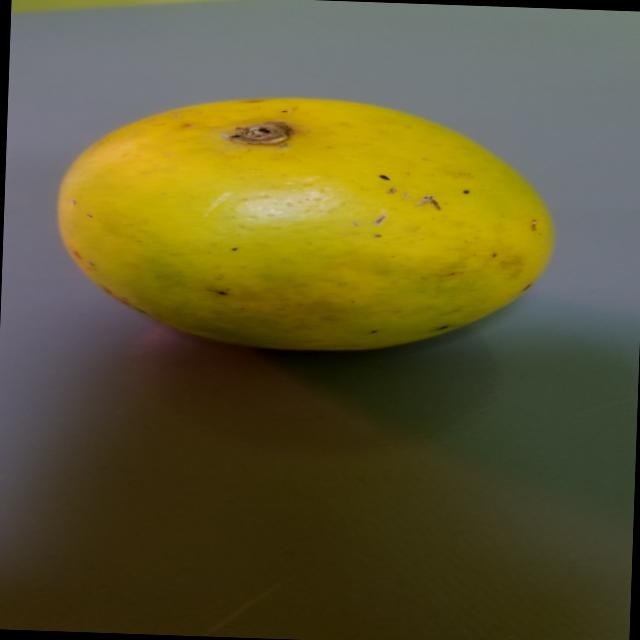agrume: (42, 85, 563, 358)
